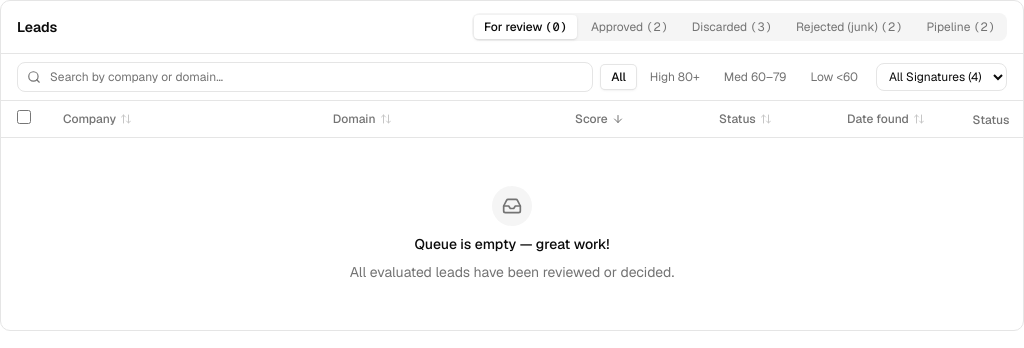
Test case: Pipeline tab › renders pipeline candidates when tab is clicked
The image size is (1024, 348).
Click the tab "Pipeline (2)" at (961,27), box [916,15,1005,39]
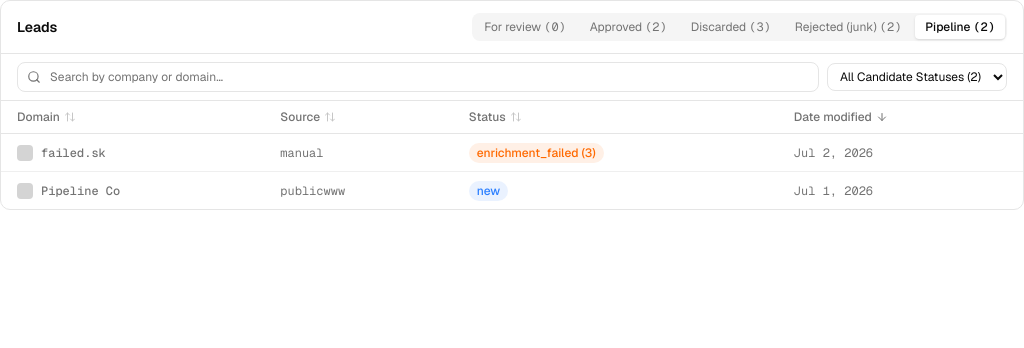
Expected: the link "Pipeline Co" is shown, [41,182,120,198]
